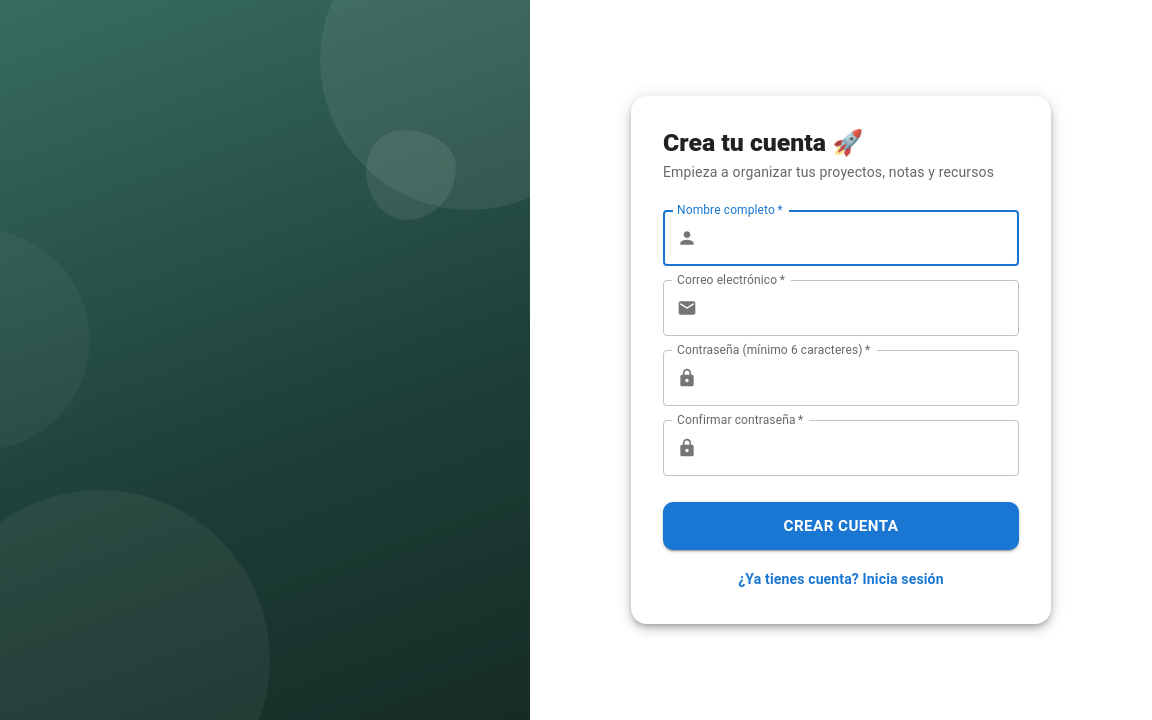
Test case: Register › registra con éxito y muestra el mensaje de redirección
The image size is (1152, 720).
Type "Ana" into the field labelled "Nombre completo *". click: (862, 238)
box: [705,210,1019,266]
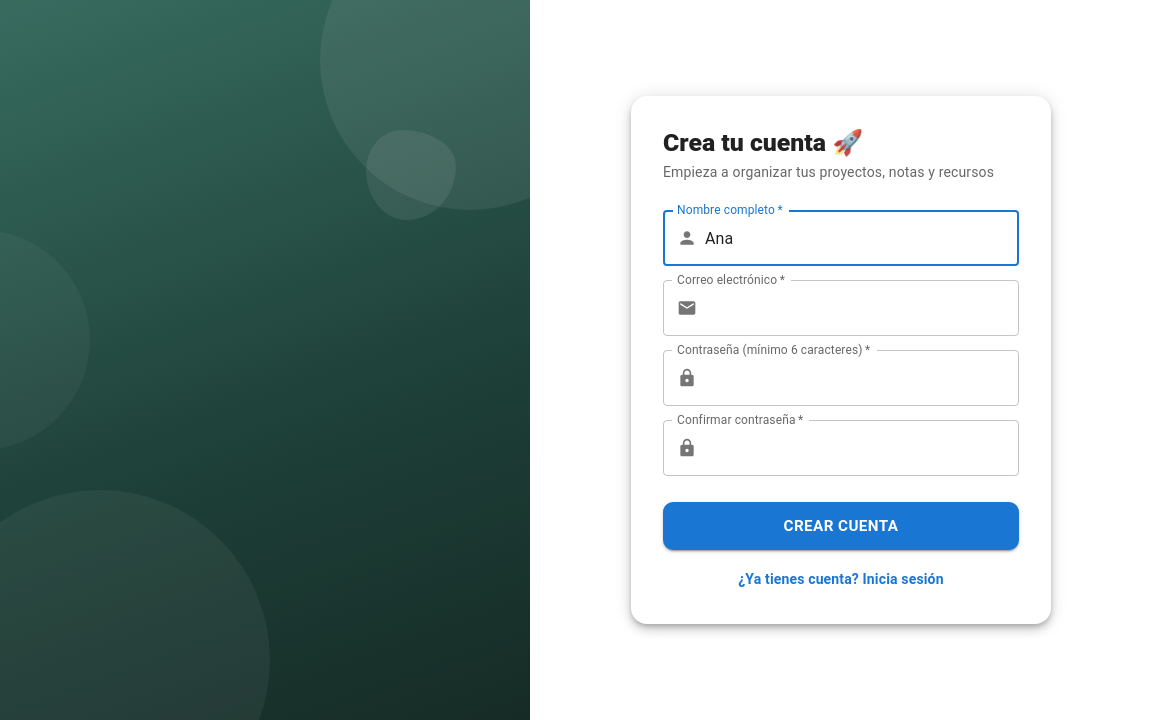
Type "ana@test.com" into the field labelled "Correo electrónico *". click: (862, 308)
box: [705,280,1019,336]
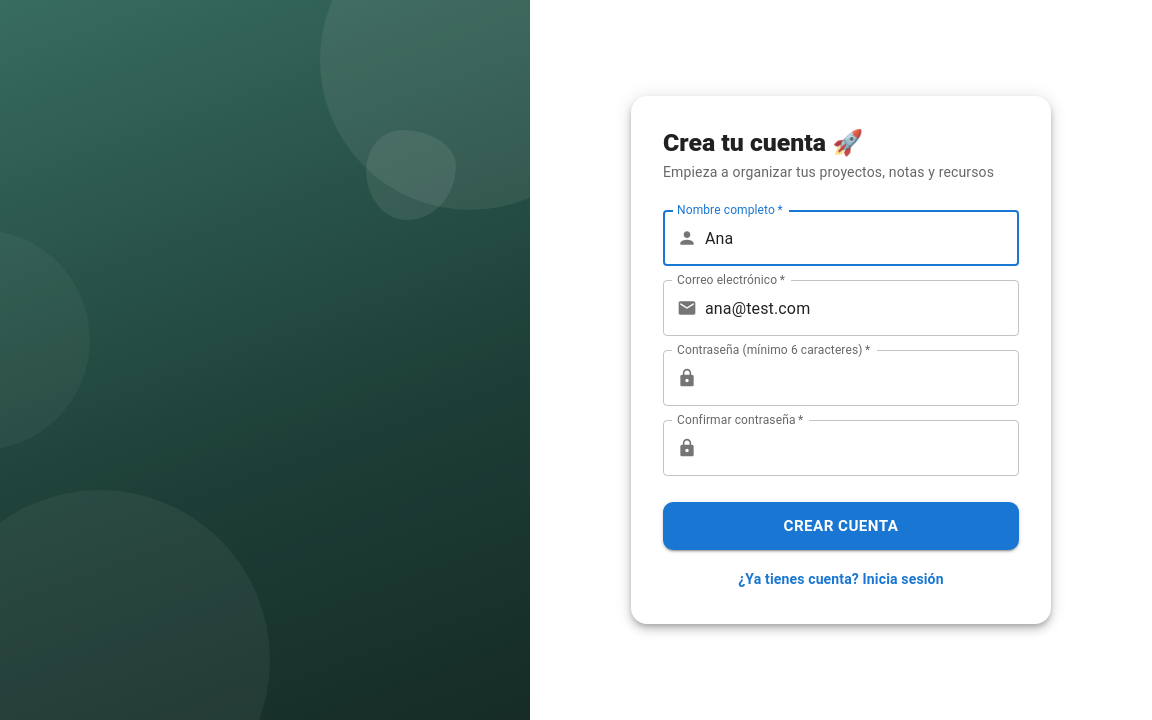
Type "secret123" into the password field labelled "Contraseña (mínimo 6 caracteres) *". click: (862, 378)
box: [705,350,1019,406]
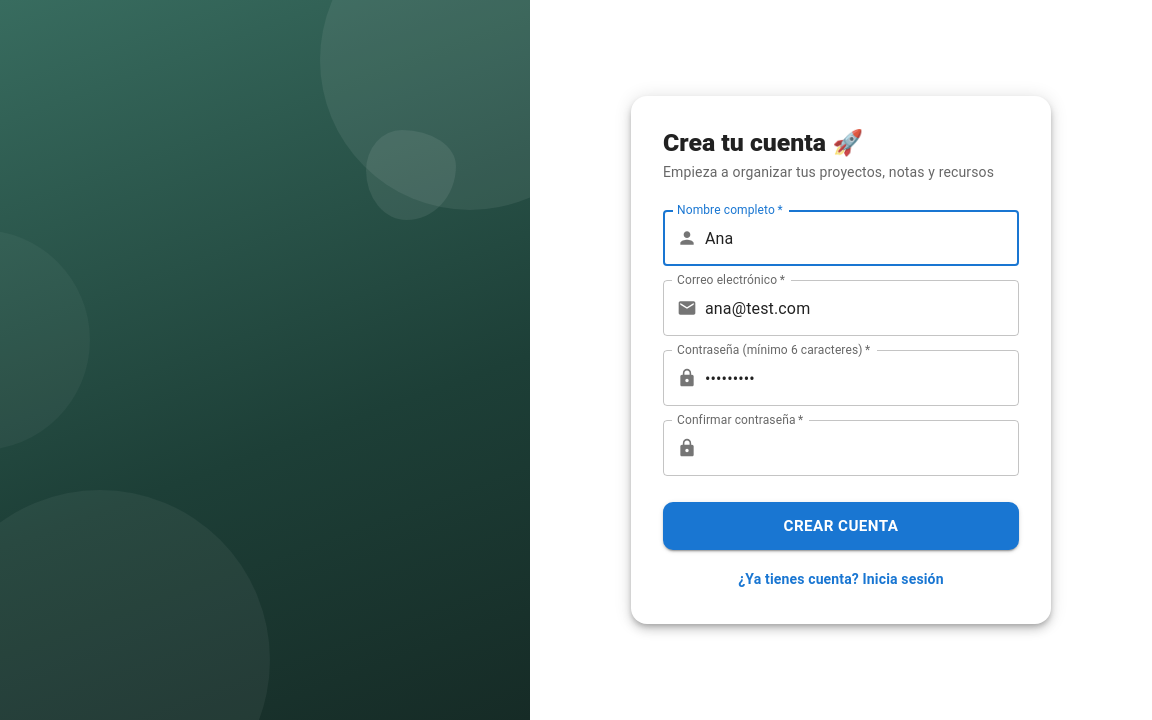
Type "secret123" into the password field labelled "Confirmar contraseña *". click: (862, 448)
box: [705,420,1019,476]
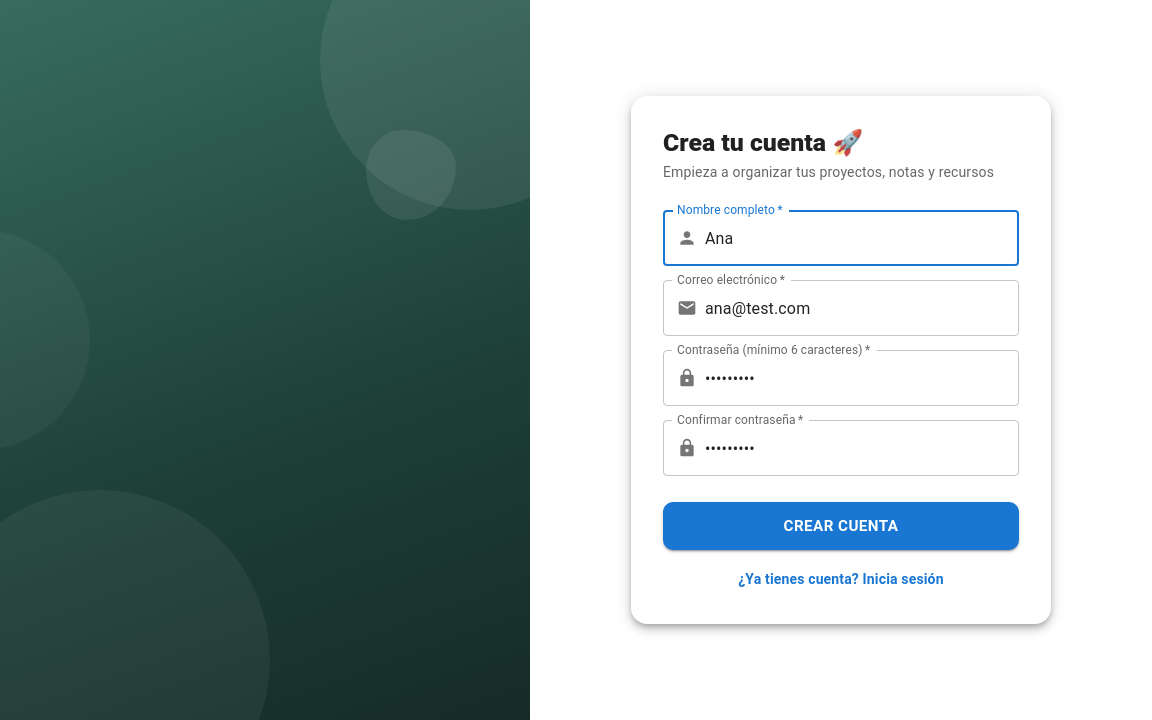
Click the button "Crear cuenta". click: (841, 526)
box: [663,502,1019,550]
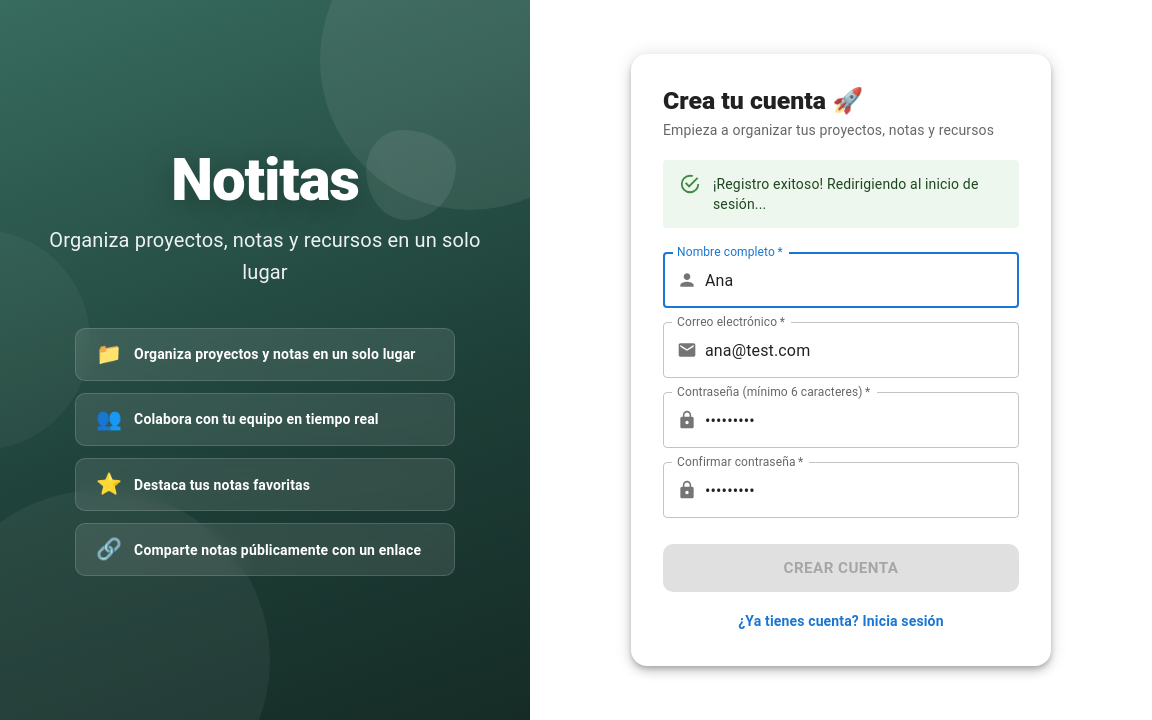
Check: the text "¡Registro exitoso! Redirigiendo al inicio de sesión..." is shown, box [713,166,1003,222]
